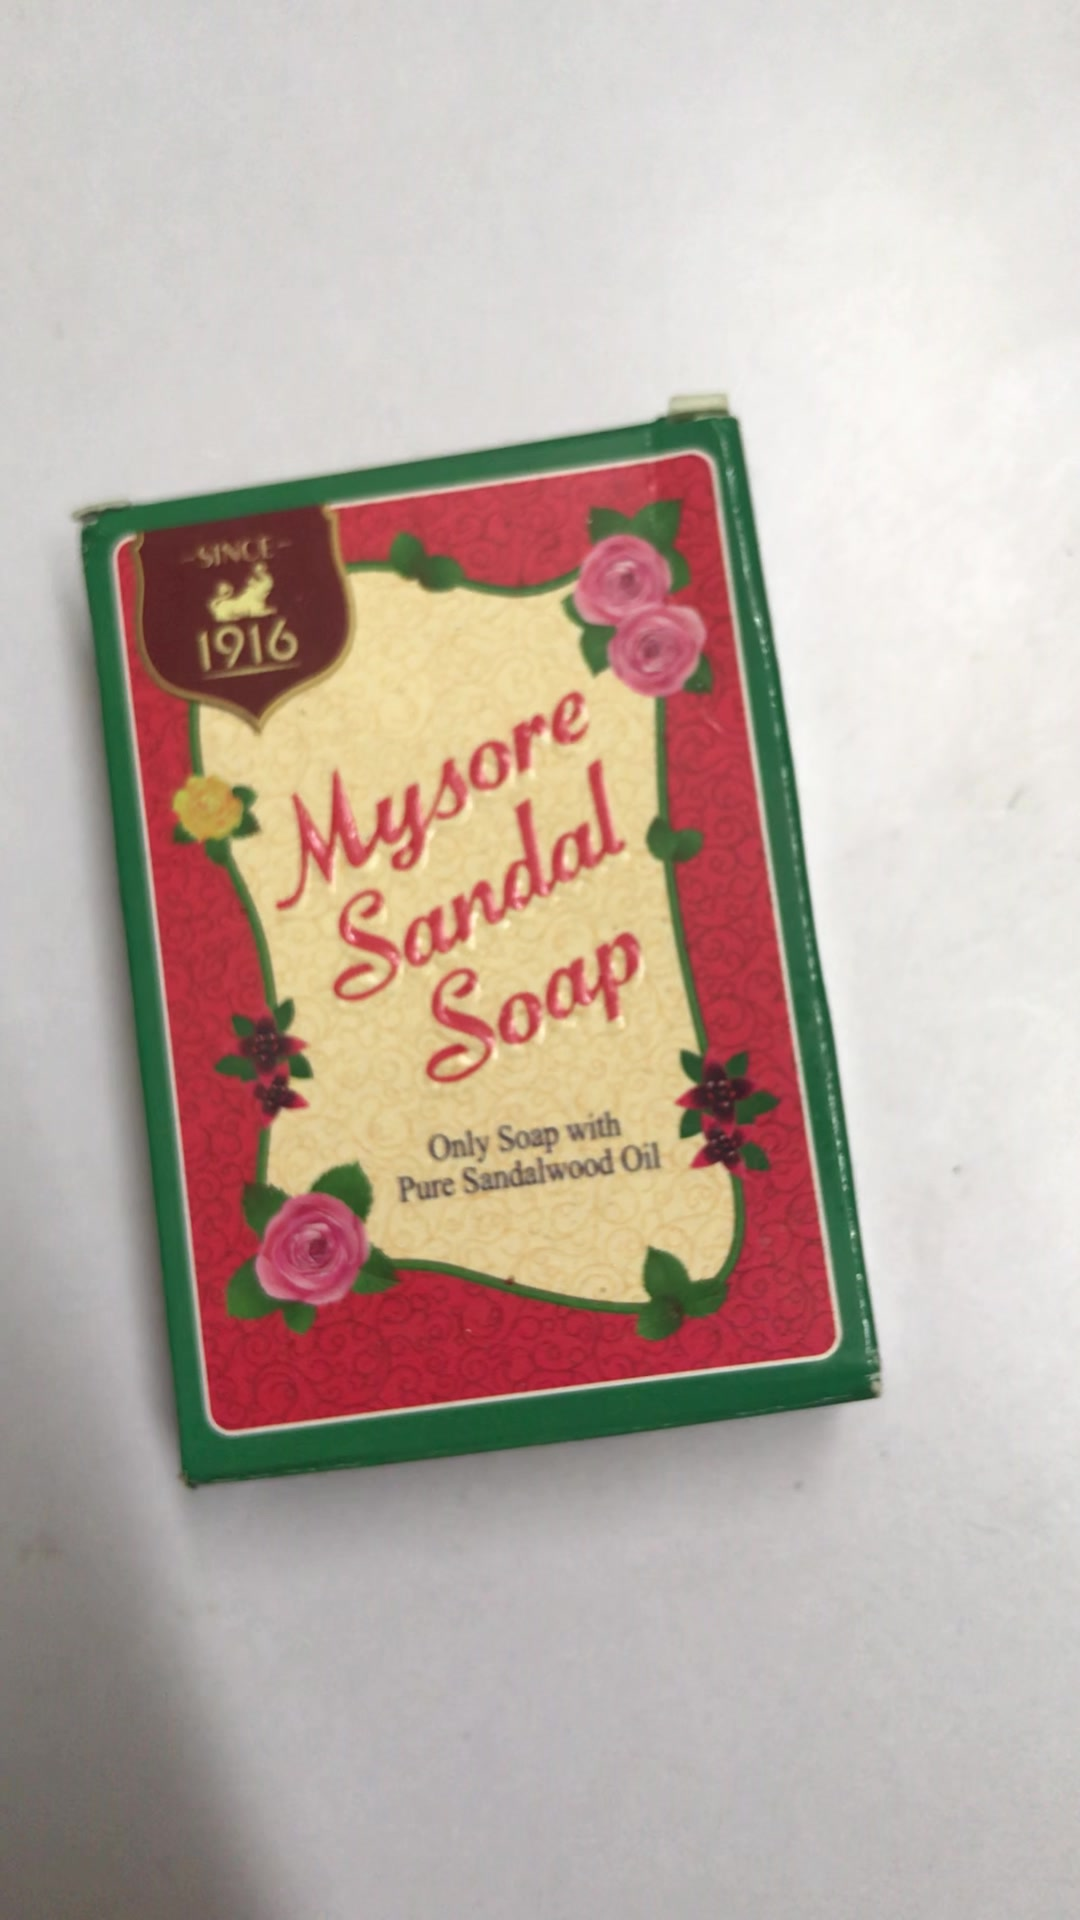mysore sandal soap: (78, 407, 870, 1490)
